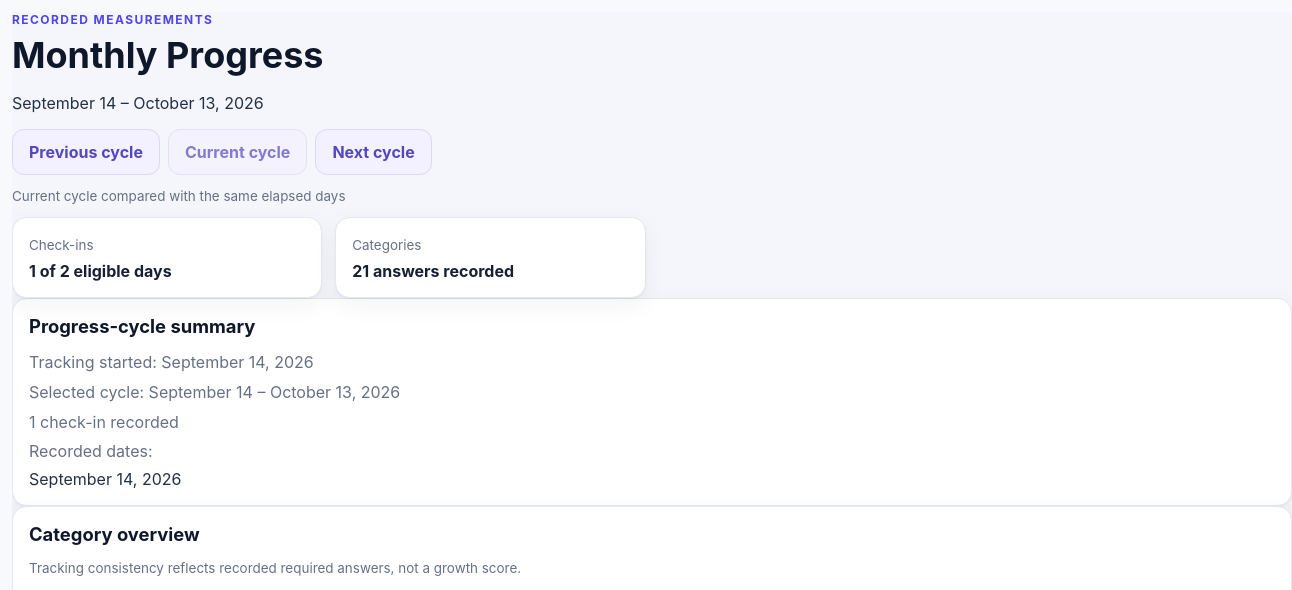
Test: MonthlyProgressPage › uses API-provided cycle boundaries for previous, next, and current navigation
Check: the text "September 14 – October 13, 2026" is shown, box [12,93,264,113]
Click the button "Previous cycle".
click(86, 152)  # box [12,129,160,175]
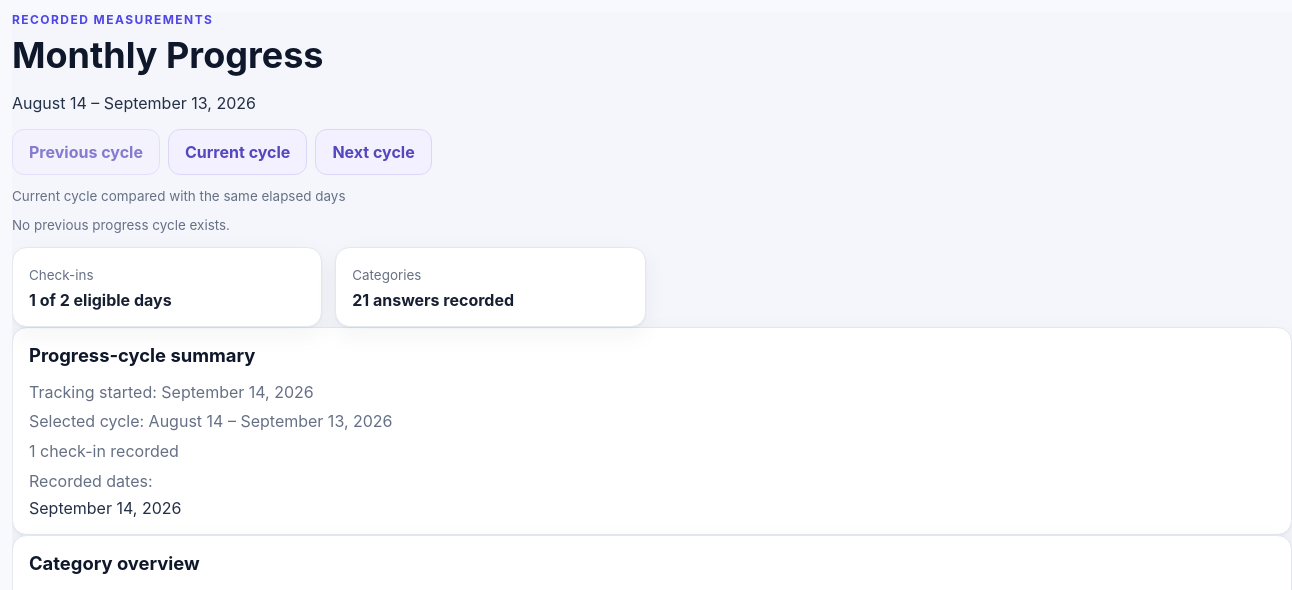
Check: the text "August 14 – September 13, 2026" is shown, box [12,93,256,113]
Check: the button "Previous cycle" is disabled, box [12,129,160,175]
Check: the text "No previous progress cycle exists." is shown, box [12,218,230,234]
Click the button "Current cycle".
click(238, 152)  # box [168,129,307,175]
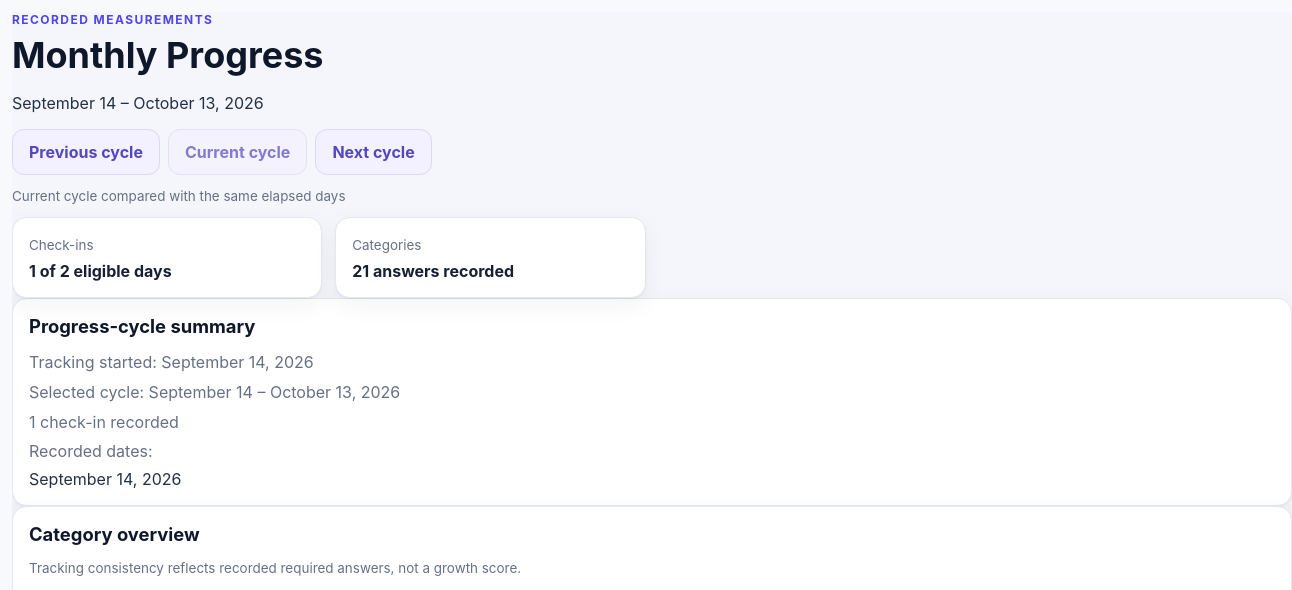
Check: the text "September 14 – October 13, 2026" is shown, box [12,93,264,113]
Click the button "Next cycle".
click(374, 152)  # box [315,129,432,175]
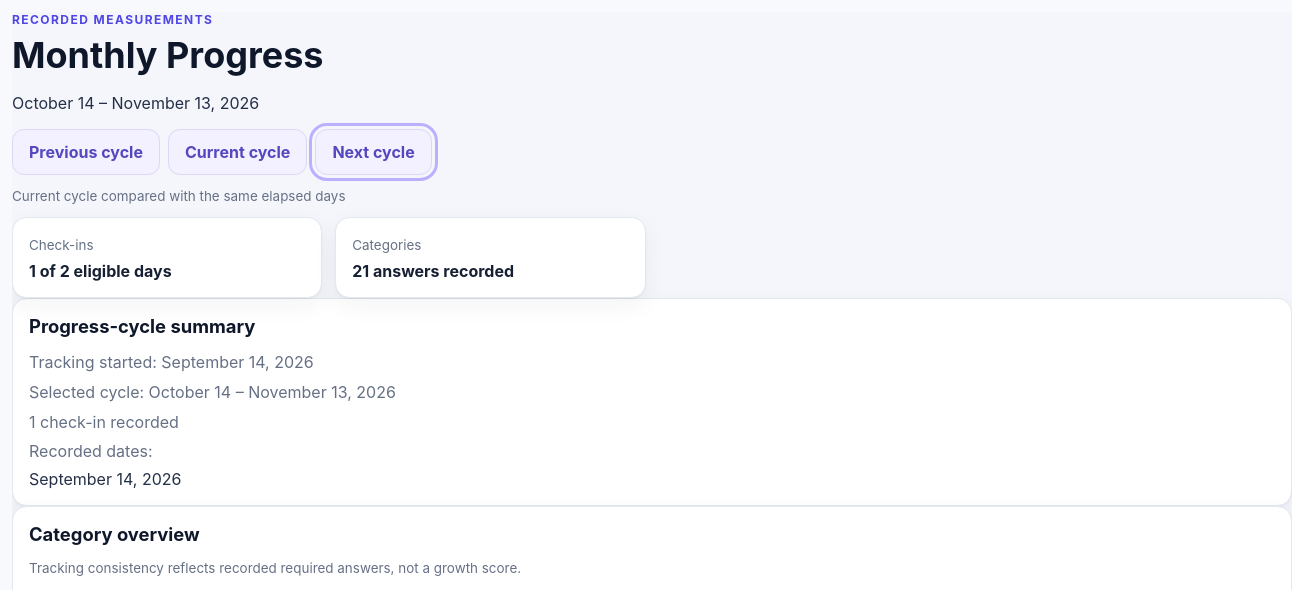
Check: the text "October 14 – November 13, 2026" is shown, box [12,93,259,113]
